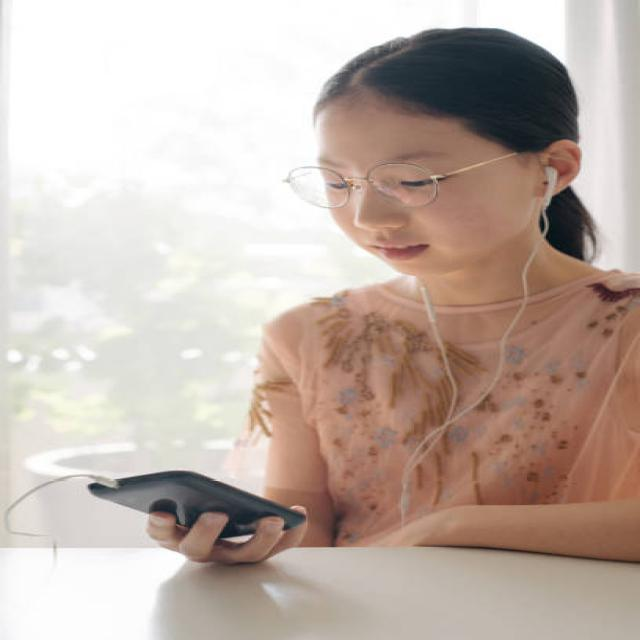Earphone: (392, 162, 558, 548)
